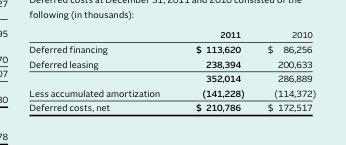table: (28, 28, 315, 113)
table column: (28, 28, 177, 113), (177, 28, 255, 113), (255, 28, 315, 113)
table column header: (28, 28, 315, 41)
table row: (28, 41, 315, 56), (28, 70, 315, 85), (28, 85, 315, 100), (28, 56, 315, 70), (28, 28, 315, 41), (28, 100, 315, 113)
